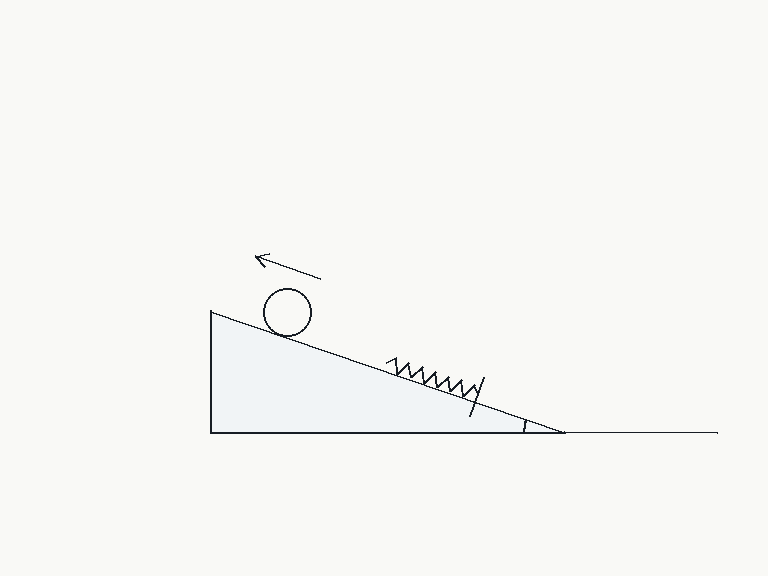ball: (261, 286, 313, 338)
ramp: (208, 309, 566, 435)
spring: (385, 356, 481, 398)
